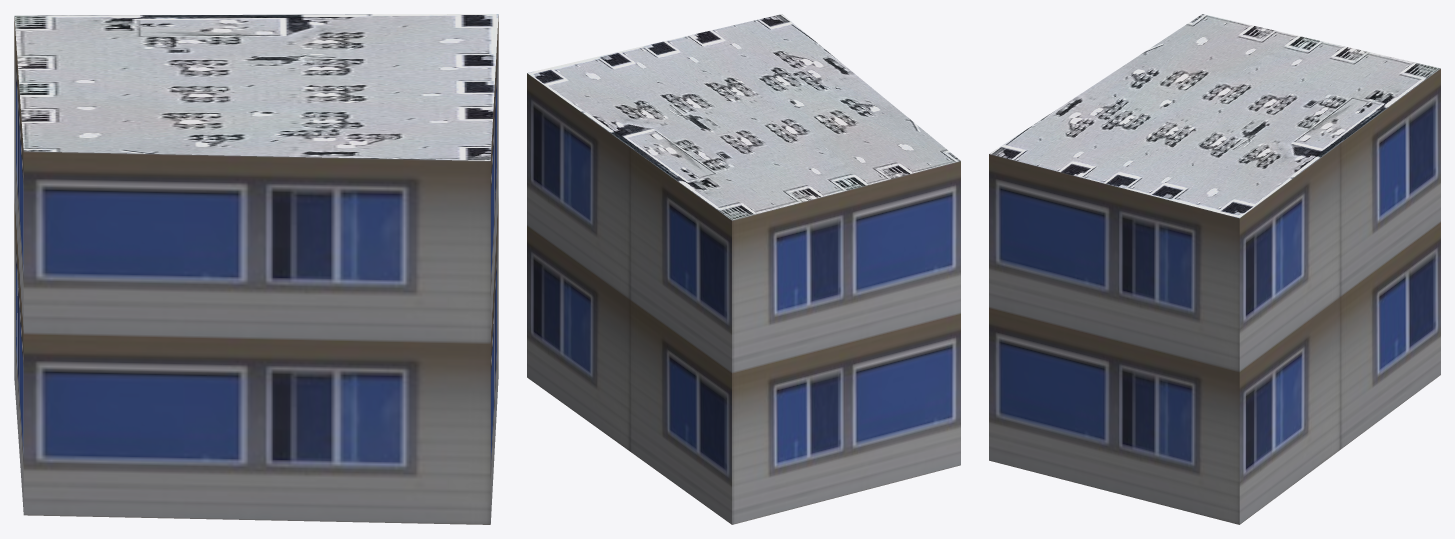
The model's file is ResTex__2226.fbx.
3 views of the same model, side by side, from view 1: azimuth 30°, elevation 25°; view 2: azimuth 150°, elevation 25°; view 3: azimuth 270°, elevation 25° (orthographic). The views are drawn at different scales.
Parts seen in each view (by area): view 1: CityEngineMaterial_23_m, CityEngineMaterial_8_m; view 2: CityEngineMaterial_23_m, CityEngineMaterial_8_m; view 3: CityEngineMaterial_23_m, CityEngineMaterial_8_m.
Boxes of the visible parts, x1,y1,x2,y2 form: CityEngineMaterial_23_m: (14,15,498,524); CityEngineMaterial_8_m: (14,14,498,160); CityEngineMaterial_23_m: (527,73,960,524); CityEngineMaterial_8_m: (527,14,960,220); CityEngineMaterial_23_m: (989,68,1440,524); CityEngineMaterial_8_m: (989,14,1440,218).
Size of the model in its own units: 8.57 by 6 by 8.01.
Materials: 2 (2 with a texture image).
